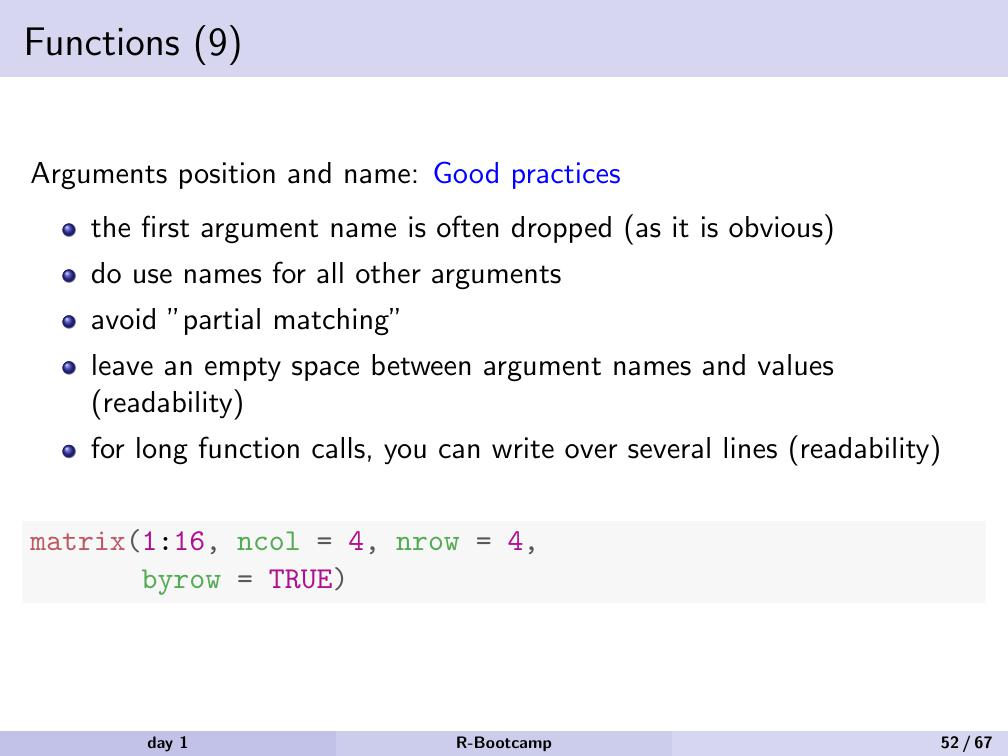Title: (19, 17, 255, 72)
